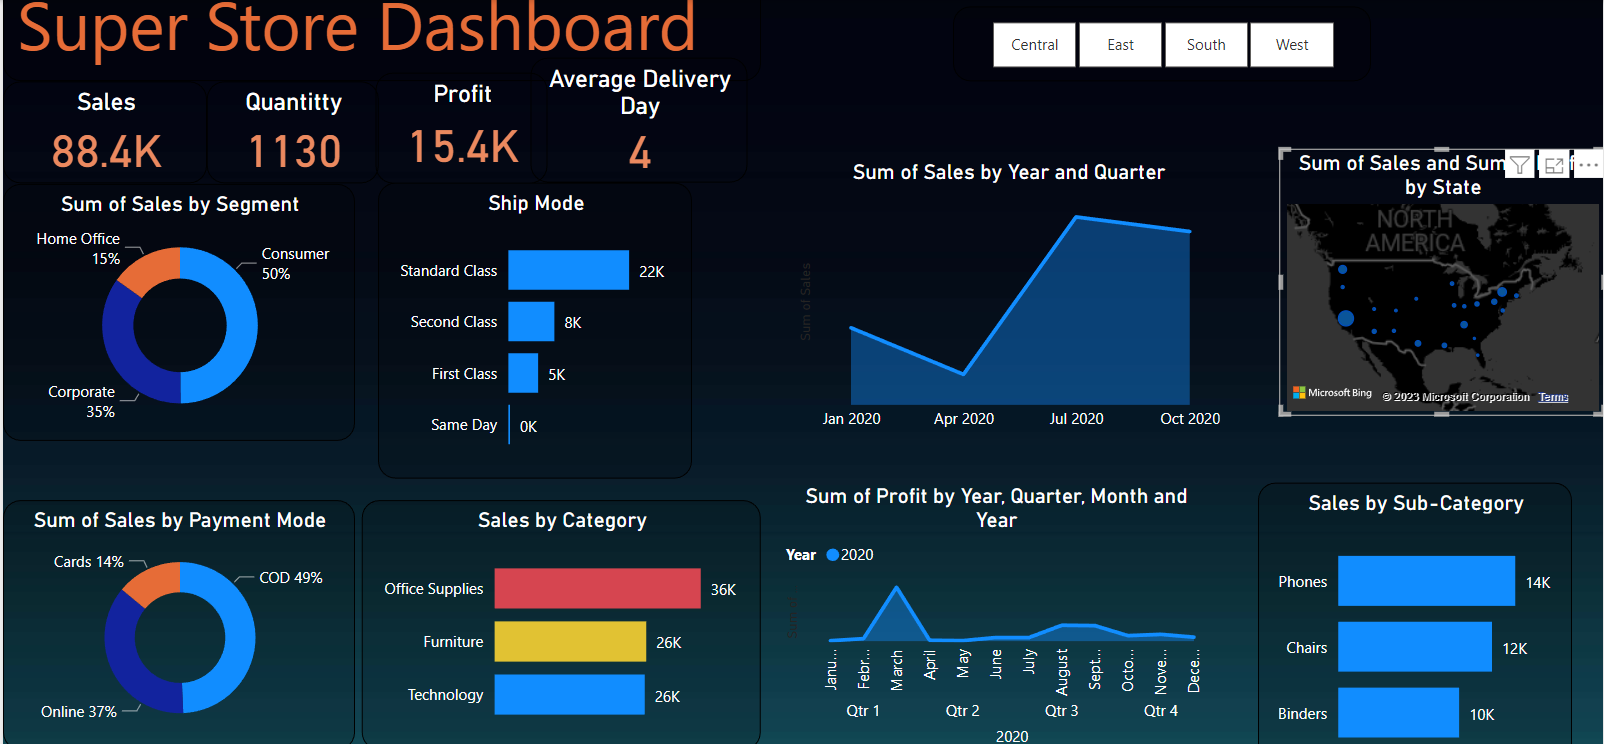

This screenshot's page, from the dashboard's own definition file:
{"tool":"powerbi","page":{"name":"Page 1","canvas":[1280,720],"ordinal":0},"visuals":[{"type":"clusteredBarChart","title":"Sales by Category","fields":{"Category":["Sheet1.Category"],"Y":["Sum(Sheet1.Sales)"]},"box":[286.5,427.8,319.5,200.2],"z":0},{"type":"clusteredBarChart","title":"Sales by Sub-Category","fields":{"Category":["Sheet1.Sub-Category"],"Y":["Sum(Sheet1.Sales)"]},"box":[1003.6,414.1,250.9,237.2],"z":1000},{"type":"clusteredBarChart","title":"Ship Mode","fields":{"Category":["Sheet1.Ship Mode"],"Y":["Sum(Sheet1.Sales)"]},"box":[300.3,174.1,250.9,237.2],"z":2000},{"type":"stackedAreaChart","fields":{"Y":["Sum(Sheet1.Sales)"],"Category":["Sheet1.Order Date.Variation.Date Hierarchy.Year","Sheet1.Order Date.Variation.Date Hierarchy.Quarter"]},"box":[630.7,154.9,346.9,226.2],"z":2001},{"type":"stackedAreaChart","fields":{"Y":["Sum(Sheet1.Profit)"],"Series":["Sheet1.Order Date.Variation.Date Hierarchy.Year"],"Category":["Sheet1.Order Date.Variation.Date Hierarchy.Year","Sheet1.Order Date.Variation.Date Hierarchy.Quarter","Sheet1.Order Date.Variation.Date Hierarchy.Month"]},"box":[621.1,414.1,346.9,226.2],"z":2002},{"type":"map","fields":{"Category":["Sheet1.State"],"Size":["Sum(Sheet1.Sales)"]},"box":[1021.4,146.7,259.1,213.9],"z":2003},{"type":"donutChart","fields":{"Category":["Sheet1.Segment"],"Y":["Sum(Sheet1.Sales)"]},"box":[0,175.5,281.1,205.7],"z":2004},{"type":"donutChart","fields":{"Category":["Sheet1.Payment Mode"],"Y":["Sum(Sheet1.Sales)"]},"box":[0,427.8,281.1,200.2],"z":2005},{"type":"slicer","fields":{"Values":["Sheet1.Region"]},"box":[759.6,32.9,334.5,60.3],"z":2006},{"type":"textbox","box":[0,0,606,93.2],"z":2007},{"type":"card","title":"Sales","fields":{"Values":["Sum(Sheet1.Sales)"]},"box":[0,93.2,163.2,82.3],"z":2008},{"type":"card","title":"Profit","fields":{"Values":["Sum(Sheet1.Profit)"]},"box":[297.5,86.4,137.1,89.1],"z":2009},{"type":"card","title":"Quantitty","fields":{"Values":["Sum(Sheet1.Quantity)"]},"box":[163.2,93.2,137.1,82.3],"z":2010},{"type":"card","title":"Average Delivery Day","fields":{"Values":["Avg(Sheet1.Average_Delivery)"]},"box":[422.3,74,172.8,100.1],"z":2011}]}

Visuals, with their boxes on the page's 1280x720 design canvas (x1, y1, x2, y2). These are canvas units, not pixel positions in the 1604x744 screenshot, which may show the page scaled, cropped or inside an application window:
"Sales by Category" clusteredBarChart: {"x1": 286, "y1": 428, "x2": 606, "y2": 628}
"Sales by Sub-Category" clusteredBarChart: {"x1": 1004, "y1": 414, "x2": 1254, "y2": 651}
"Ship Mode" clusteredBarChart: {"x1": 300, "y1": 174, "x2": 551, "y2": 411}
stackedAreaChart - Sum(Sheet1.Sales) x Sheet1.Order Date.Variation.Date Hierarchy.Year: {"x1": 631, "y1": 155, "x2": 978, "y2": 381}
stackedAreaChart - Sum(Sheet1.Profit) x Sheet1.Order Date.Variation.Date Hierarchy.Year: {"x1": 621, "y1": 414, "x2": 968, "y2": 640}
map - Sheet1.State x Sum(Sheet1.Sales): {"x1": 1021, "y1": 147, "x2": 1280, "y2": 361}
donutChart - Sheet1.Segment x Sum(Sheet1.Sales): {"x1": 0, "y1": 176, "x2": 281, "y2": 381}
donutChart - Sheet1.Payment Mode x Sum(Sheet1.Sales): {"x1": 0, "y1": 428, "x2": 281, "y2": 628}
slicer - Sheet1.Region: {"x1": 760, "y1": 33, "x2": 1094, "y2": 93}
textbox: {"x1": 0, "y1": 0, "x2": 606, "y2": 93}
"Sales" card: {"x1": 0, "y1": 93, "x2": 163, "y2": 176}
"Profit" card: {"x1": 298, "y1": 86, "x2": 435, "y2": 176}
"Quantitty" card: {"x1": 163, "y1": 93, "x2": 300, "y2": 176}
"Average Delivery Day" card: {"x1": 422, "y1": 74, "x2": 595, "y2": 174}
